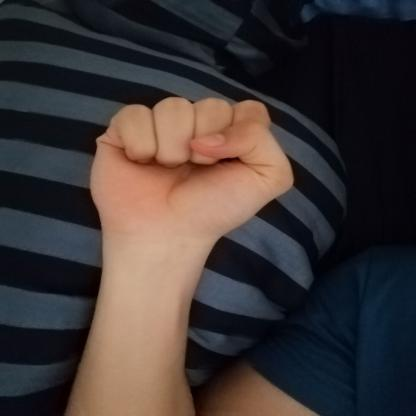SAD: (63, 79, 312, 252)
